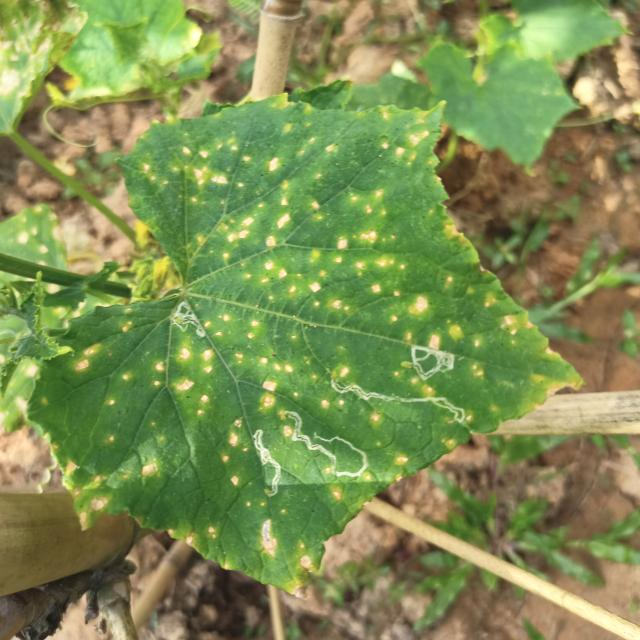disease_cucumber: (137, 121, 533, 355), (107, 346, 215, 427), (57, 452, 164, 531), (246, 500, 318, 576), (226, 345, 300, 410), (218, 415, 250, 488), (321, 396, 386, 424), (182, 525, 219, 548), (72, 345, 96, 376), (404, 376, 436, 396)
